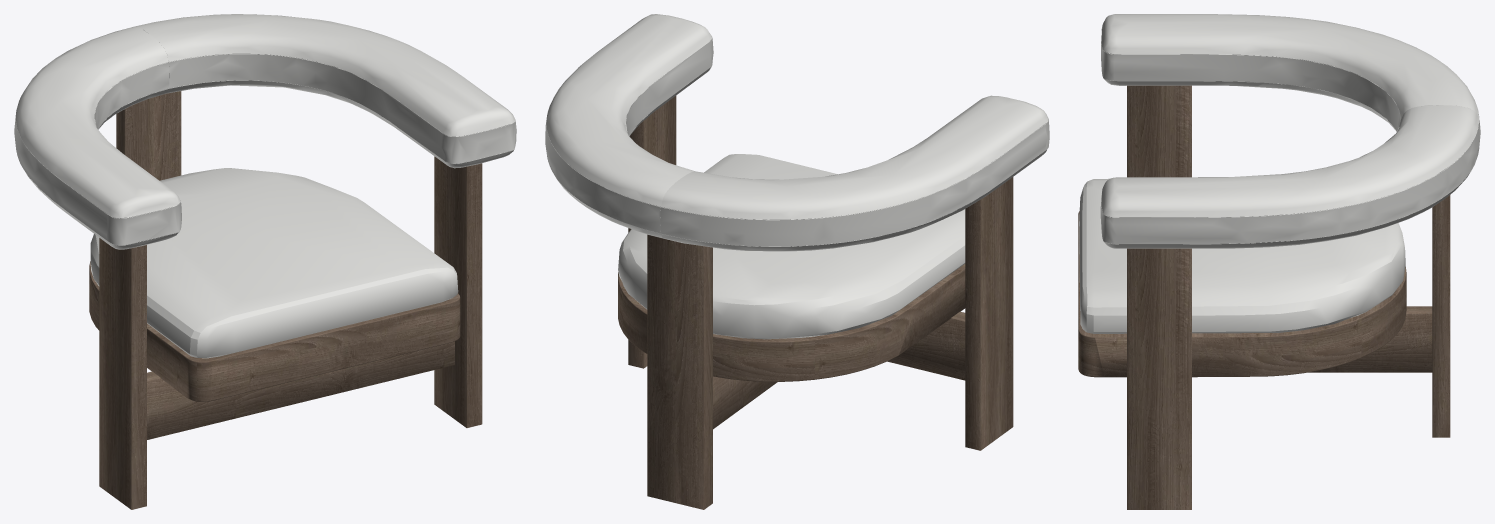
The model's file is chair_minimal.glb.
3 renders of one model, left to right at view 1: azimuth 30°, elevation 25°; view 2: azimuth 150°, elevation 25°; view 3: azimuth 270°, elevation 25°, orthographic.
Parts seen in each view (by area): view 1: Mesh2_M_10___Default_0, Mesh1_M_11___Default_0; view 2: Mesh2_M_10___Default_0, Mesh1_M_11___Default_0; view 3: Mesh2_M_10___Default_0, Mesh1_M_11___Default_0.
Part boxes in pixels (x1,y1,x2,y2): Mesh2_M_10___Default_0: [14, 14, 516, 358]; Mesh1_M_11___Default_0: [89, 91, 482, 509]; Mesh2_M_10___Default_0: [545, 14, 1049, 339]; Mesh1_M_11___Default_0: [618, 95, 1013, 509]; Mesh2_M_10___Default_0: [1079, 14, 1480, 333]; Mesh1_M_11___Default_0: [1078, 85, 1450, 509].
Size of the model in its own units: 1.04 by 0.78 by 0.8913.
2 materials, 1 textured.
